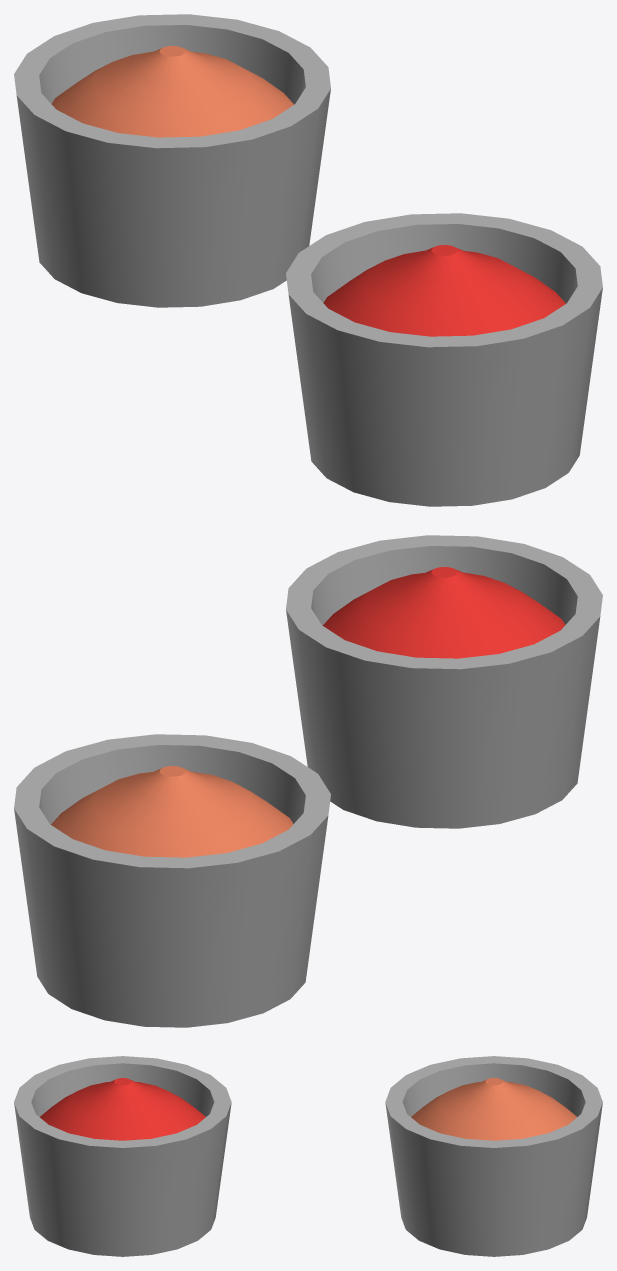
File: Sauces.fbx
The picture shows the model from 3 angles, top to bottom: view 1: azimuth 30°, elevation 25°; view 2: azimuth 150°, elevation 25°; view 3: azimuth 270°, elevation 25°; orthographic projection. The views are drawn at different scales.
Parts seen in each view (by area): view 1: Sauce_box, Sauce_box.001, Sauce.001, Sauce; view 2: Sauce_box.001, Sauce_box, Sauce, Sauce.001; view 3: Sauce_box, Sauce_box.001, Sauce, Sauce.001.
Boxes of the visible parts, x1,y1,x2,y2 form: Sauce_box: (286,213,602,506); Sauce_box.001: (14,14,330,307); Sauce.001: (51,46,294,137); Sauce: (323,245,565,336); Sauce_box.001: (14,734,330,1027); Sauce_box: (286,535,602,828); Sauce: (322,567,565,658); Sauce.001: (51,766,293,857); Sauce_box: (14,1056,231,1256); Sauce_box.001: (385,1056,602,1256); Sauce: (40,1078,205,1140); Sauce.001: (411,1078,576,1140).
Bounding box in the file's own units: 157 × 108 × 425.
